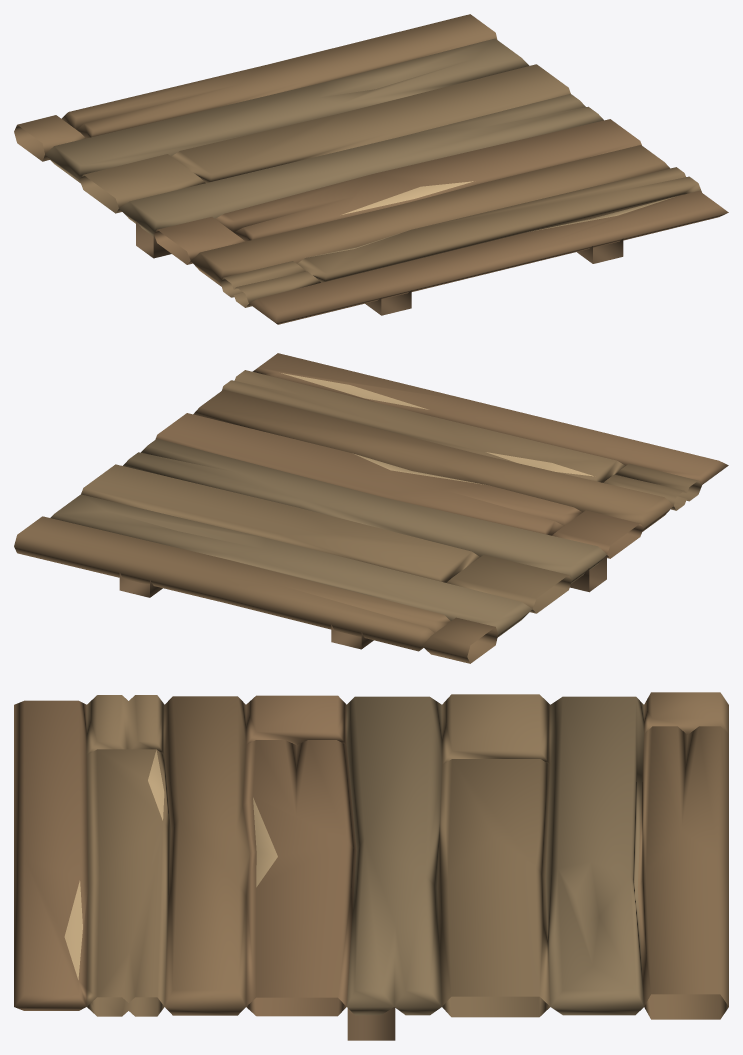
File: rpgpp_ag_floor_02a_3x3_2side.fbx
3 renders of one model, top to bottom at view 1: azimuth 30°, elevation 25°; view 2: azimuth 150°, elevation 25°; view 3: azimuth 270°, elevation 25°, orthographic. The views are drawn at different scales.
Visible parts, largest first — view 1: rpgpp_ag_floor_02a_3x3_2side; view 2: rpgpp_ag_floor_02a_3x3_2side; view 3: rpgpp_ag_floor_02a_3x3_2side.
Boxes of the visible parts, <box> form: rpgpp_ag_floor_02a_3x3_2side: <box>14,14,728,324</box>; rpgpp_ag_floor_02a_3x3_2side: <box>14,353,728,663</box>; rpgpp_ag_floor_02a_3x3_2side: <box>14,692,728,1040</box>.
Size of the model in its own units: 3 by 0.2148 by 3.
